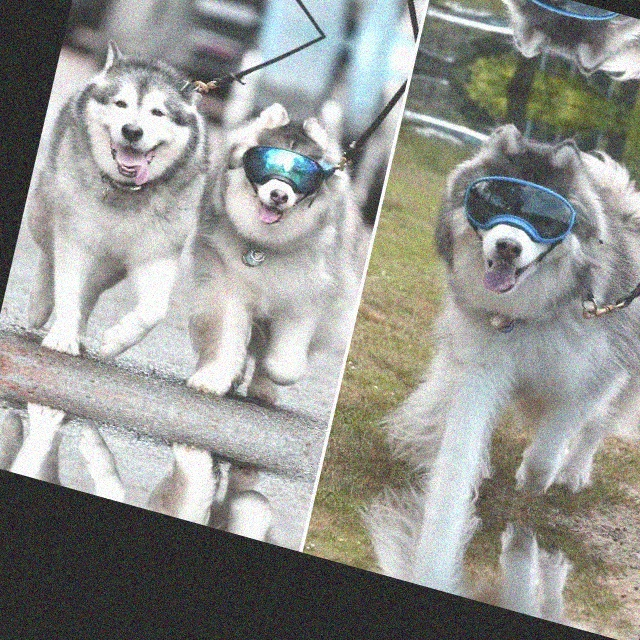dog: (366, 99, 640, 541), (343, 464, 640, 640), (462, 0, 640, 121)
